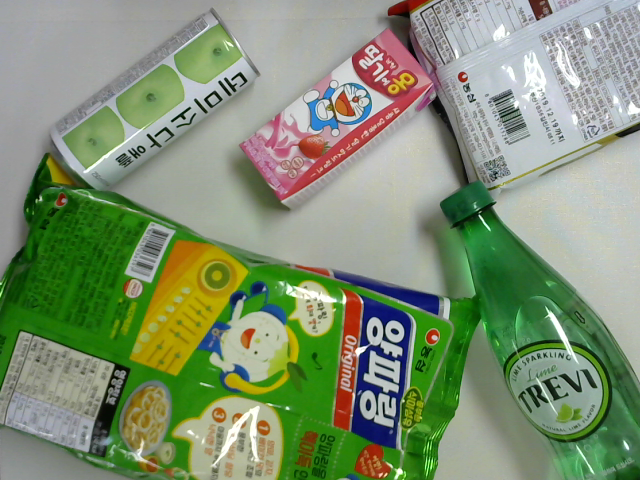Demisoda_Apple_Can_250ml: (45, 9, 260, 191)
Oninon_Ring: (7, 151, 481, 480)
Potato: (387, 1, 640, 196)
Strawberry_E_Mong: (235, 29, 438, 213)
Treviraim_500ml: (440, 180, 639, 480)
